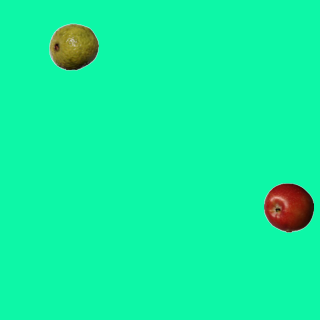Apple Braeburn: (263, 182, 313, 232)
Guava: (48, 21, 98, 71)
